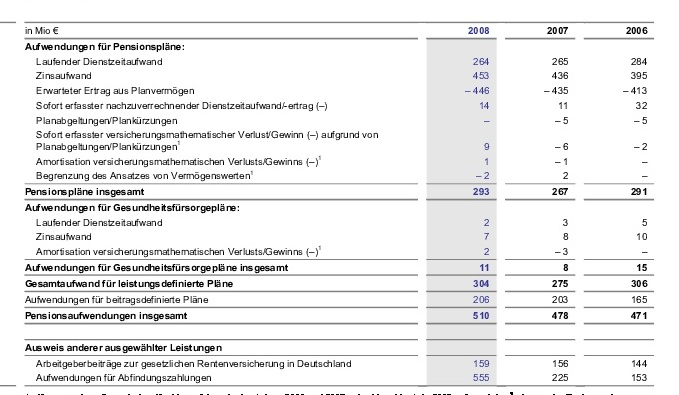table: (0, 0, 679, 395)
